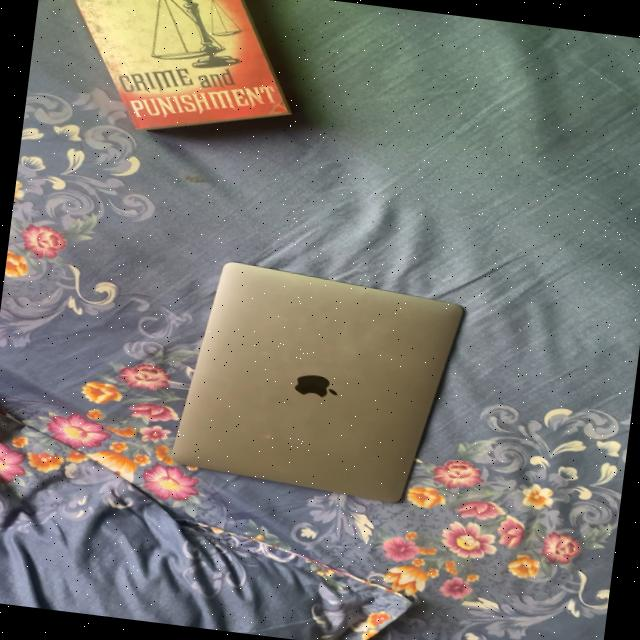book: (22, 0, 331, 158)
laptop: (124, 230, 485, 524)
